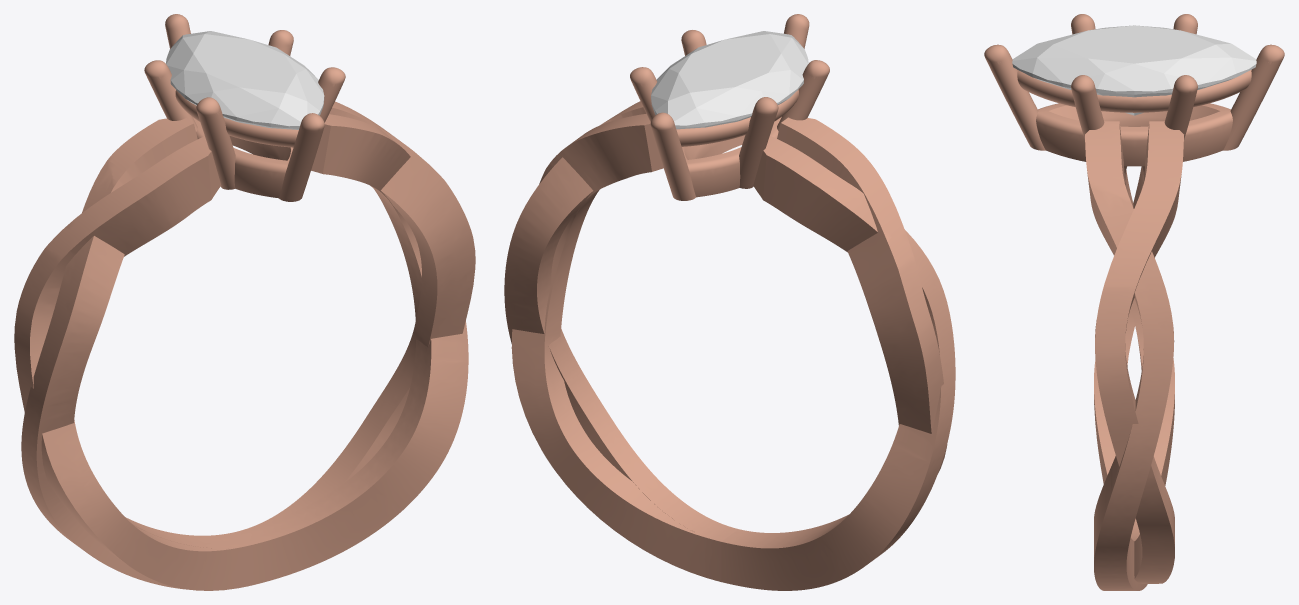
The model's file is diamond-marquise-rosegold-6prong-twist-nosidestones.glb.
3 views of the same model, side by side, from view 1: azimuth 30°, elevation 25°; view 2: azimuth 150°, elevation 25°; view 3: azimuth 270°, elevation 25° (orthographic).
Visible parts, largest first — view 1: metal.001, stone; view 2: metal.001, stone; view 3: metal.001, stone.
Boxes of the visible parts, x1=… form: metal.001: x1=14, y1=14, x2=475, y2=590; stone: x1=166, y1=31, x2=324, y2=129; metal.001: x1=504, y1=14, x2=955, y2=590; stone: x1=651, y1=31, x2=808, y2=129; metal.001: x1=984, y1=14, x2=1284, y2=590; stone: x1=1012, y1=25, x2=1256, y2=115.
Size of the model in its own units: 19.97 by 22.84 by 11.96.
